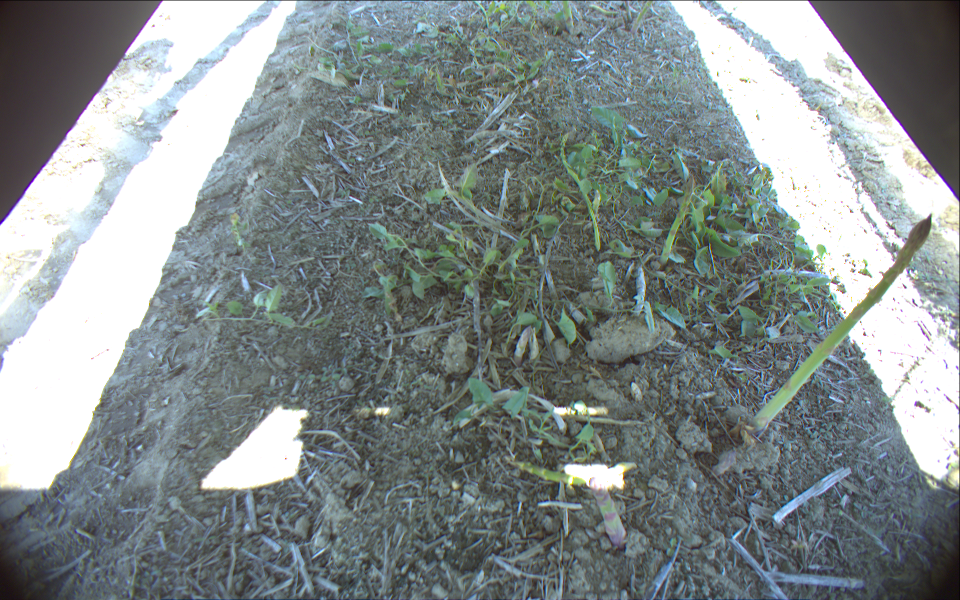aspa: (748, 212, 935, 441), (578, 471, 632, 552), (658, 170, 696, 271)
